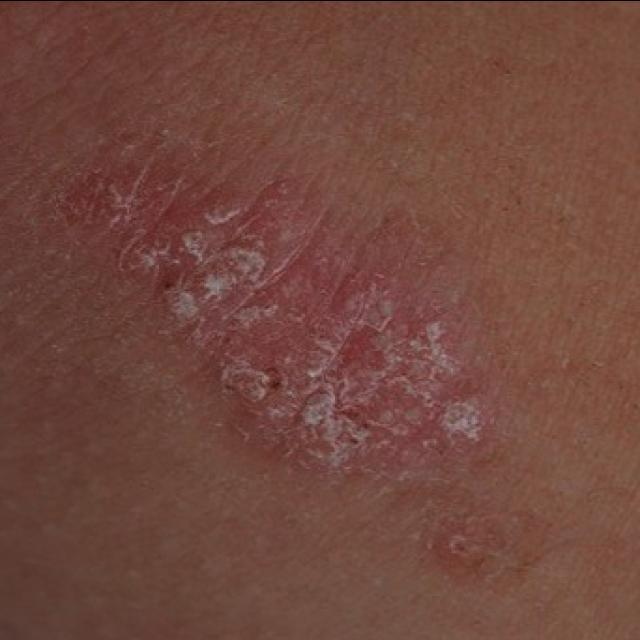Psoriasis: (39, 104, 552, 608)
